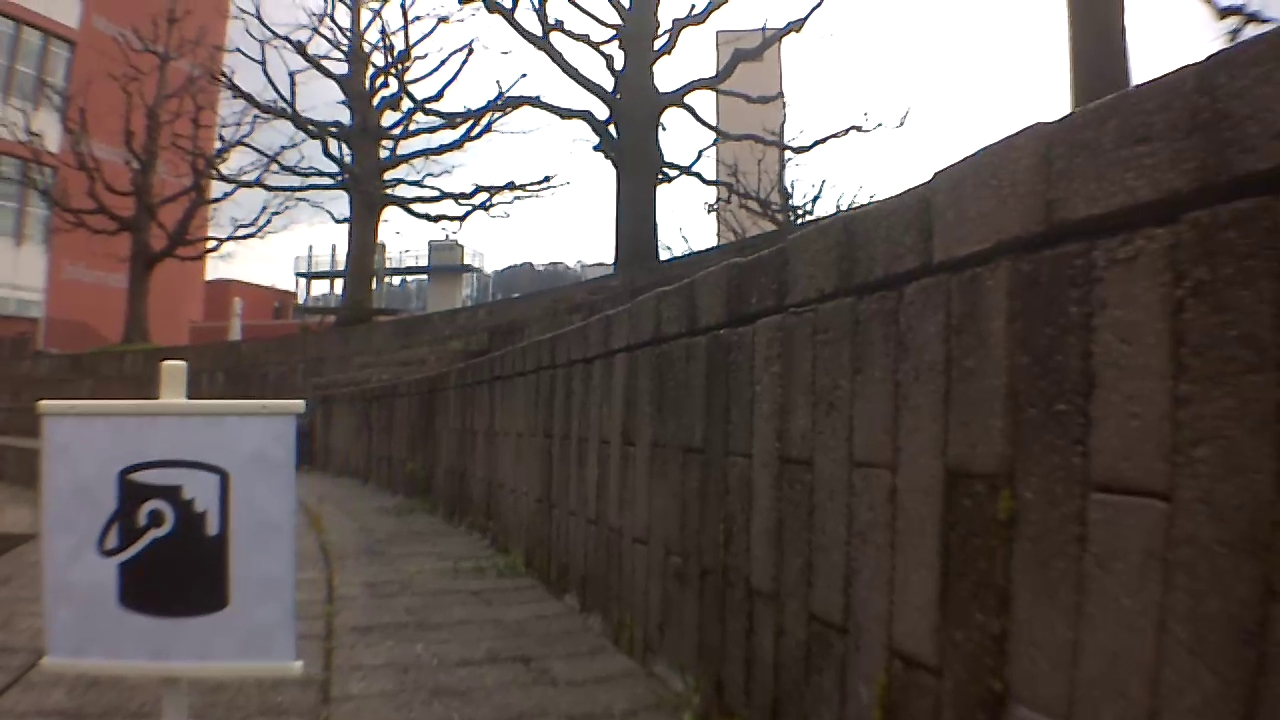bucket: (96, 449, 235, 612)
